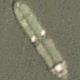ship: (0, 0, 31, 40)
